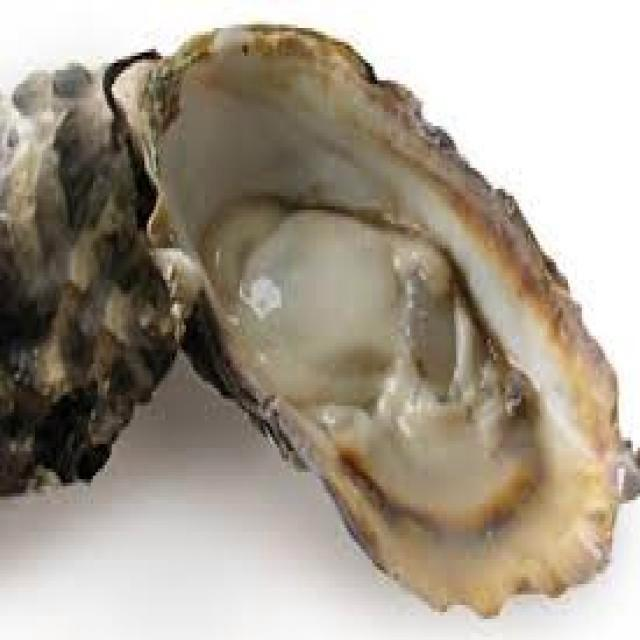Oyster-Closed: (0, 52, 175, 494)
Oyster-Open: (116, 25, 619, 613)
